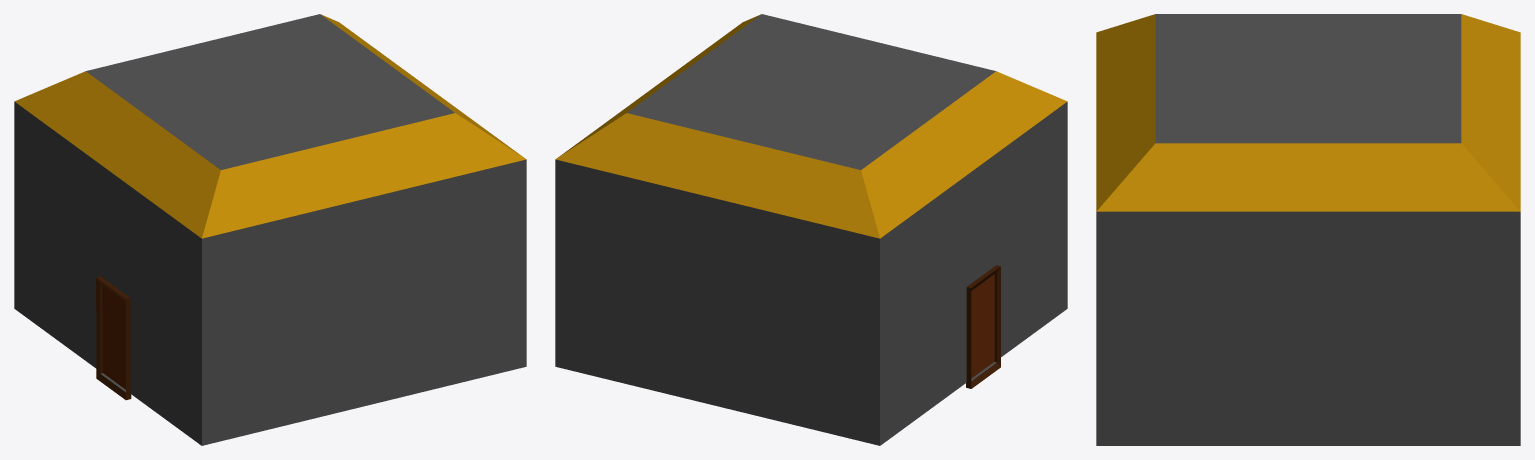
File: Magzyn.fbx
3 renders of one model, left to right at view 1: azimuth 30°, elevation 25°; view 2: azimuth 150°, elevation 25°; view 3: azimuth 270°, elevation 25°, orthographic. The views are drawn at different scales.
Parts seen in each view (by area): view 1: Magazyn; view 2: Magazyn; view 3: Magazyn.
Boxes of the visible parts, x1,y1,x2,y2 form: Magazyn: [14, 14, 526, 445]; Magazyn: [555, 14, 1067, 445]; Magazyn: [1096, 14, 1520, 445].
Size of the model in its own units: 203 by 148 by 200.
